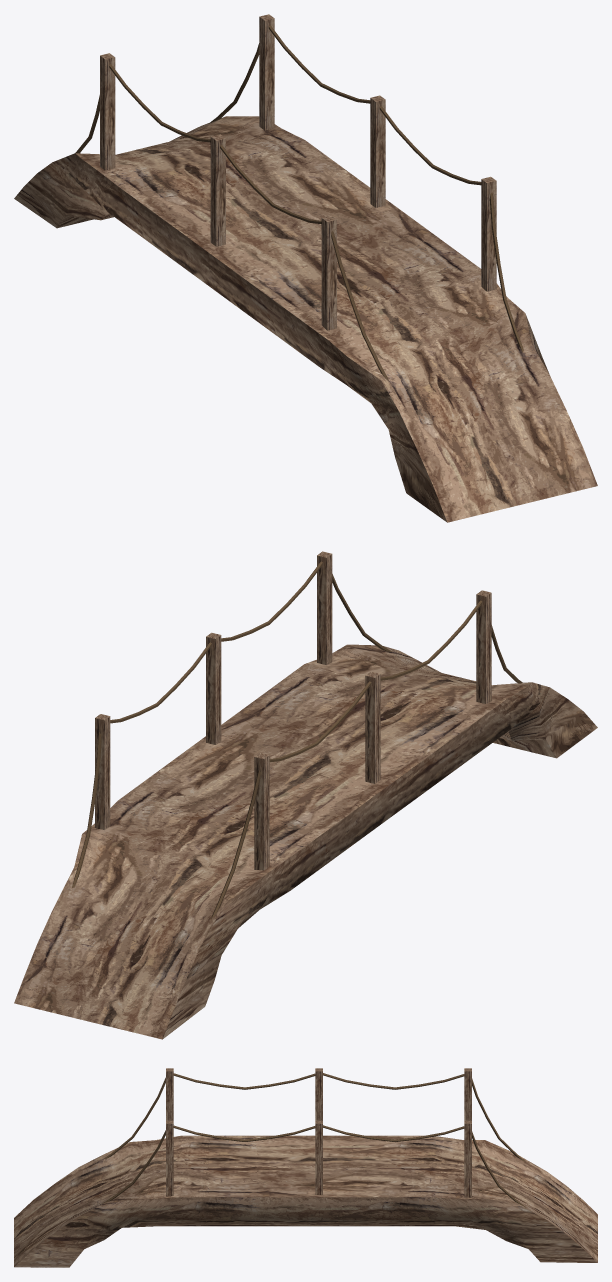
File: bridge1.fbx
The picture shows the model from 3 angles, top to bottom: view 1: azimuth 30°, elevation 25°; view 2: azimuth 150°, elevation 25°; view 3: azimuth 270°, elevation 25°; orthographic projection. The views are drawn at different scales.
Parts seen in each view (by area): view 1: polySurface1; view 2: polySurface1; view 3: polySurface1.
Part boxes in pixels (x1,y1,x2,y2): polySurface1: [14, 14, 597, 522]; polySurface1: [14, 551, 597, 1039]; polySurface1: [14, 1068, 597, 1267].
Size of the model in its own units: 76.31 by 85.54 by 306.
